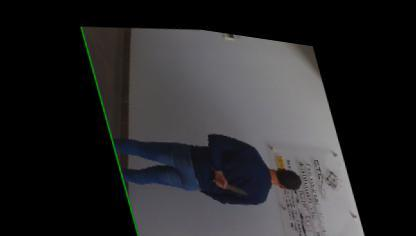knife: (204, 166, 245, 192)
